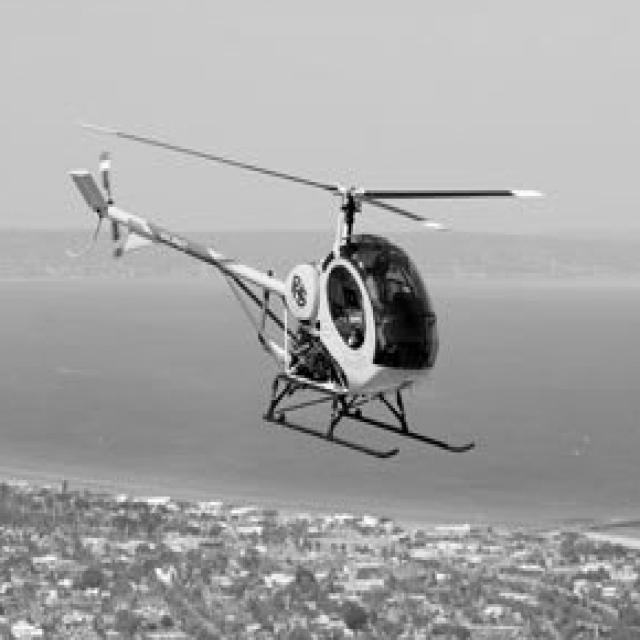helicopter: (65, 120, 548, 462)
